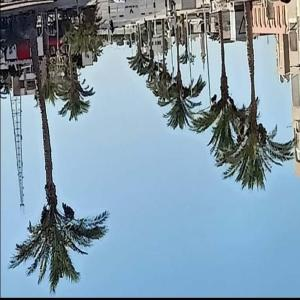palm tree: (1, 1, 110, 296)
